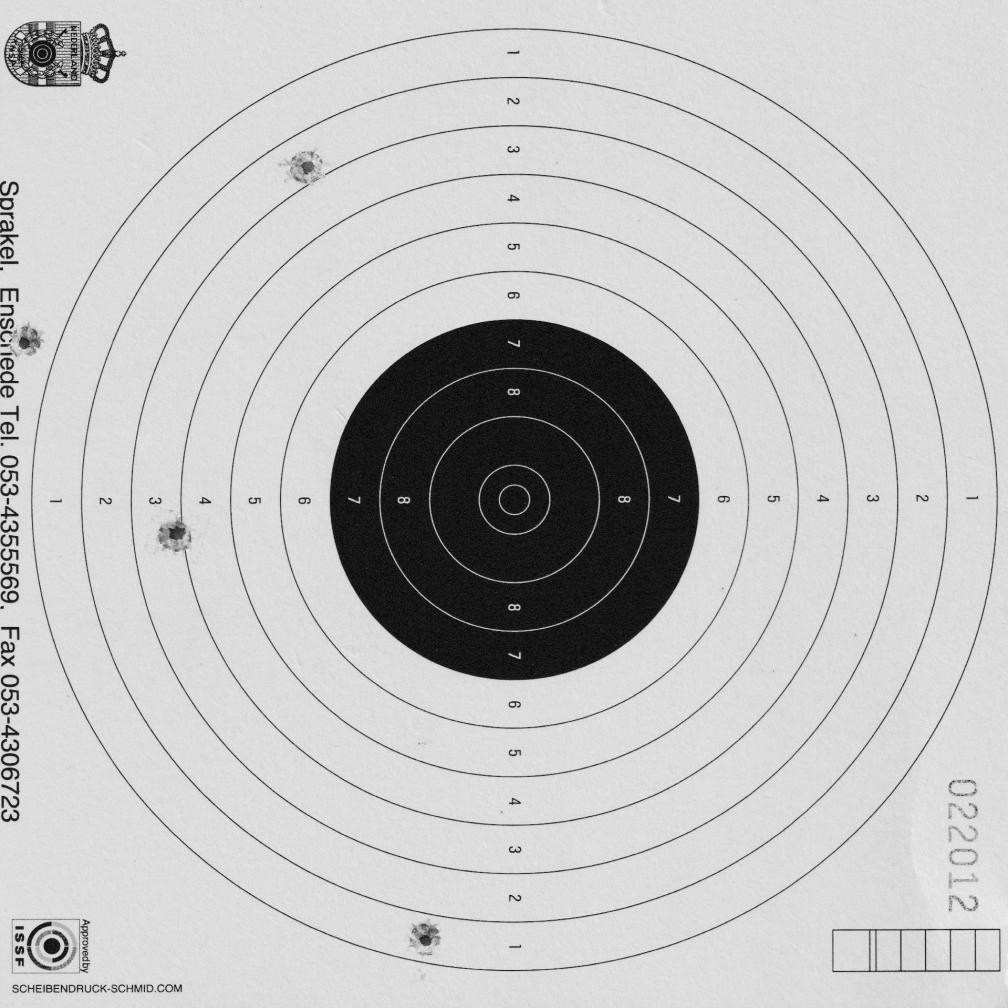0: (7, 319, 47, 359)
1: (404, 916, 443, 957)
3: (282, 150, 326, 186)
4: (155, 513, 193, 555)
Target: (17, 24, 1002, 974)
black_contour: (328, 319, 699, 680)
